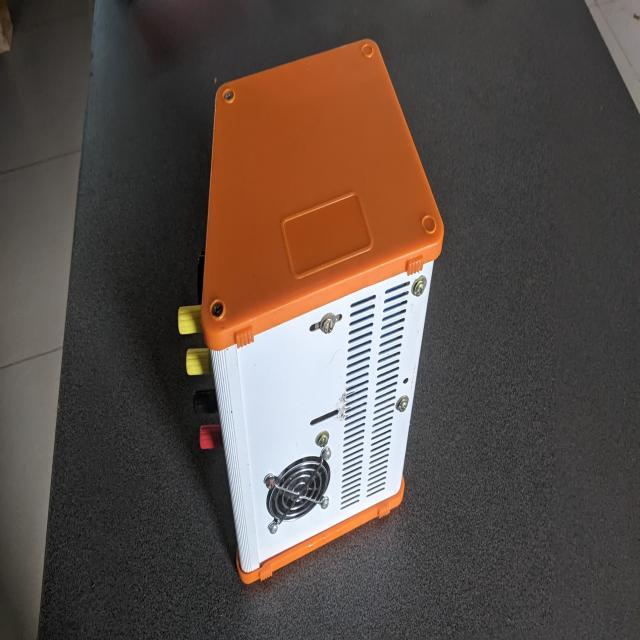AC and DC Power Supply 24V: (175, 26, 445, 579)
